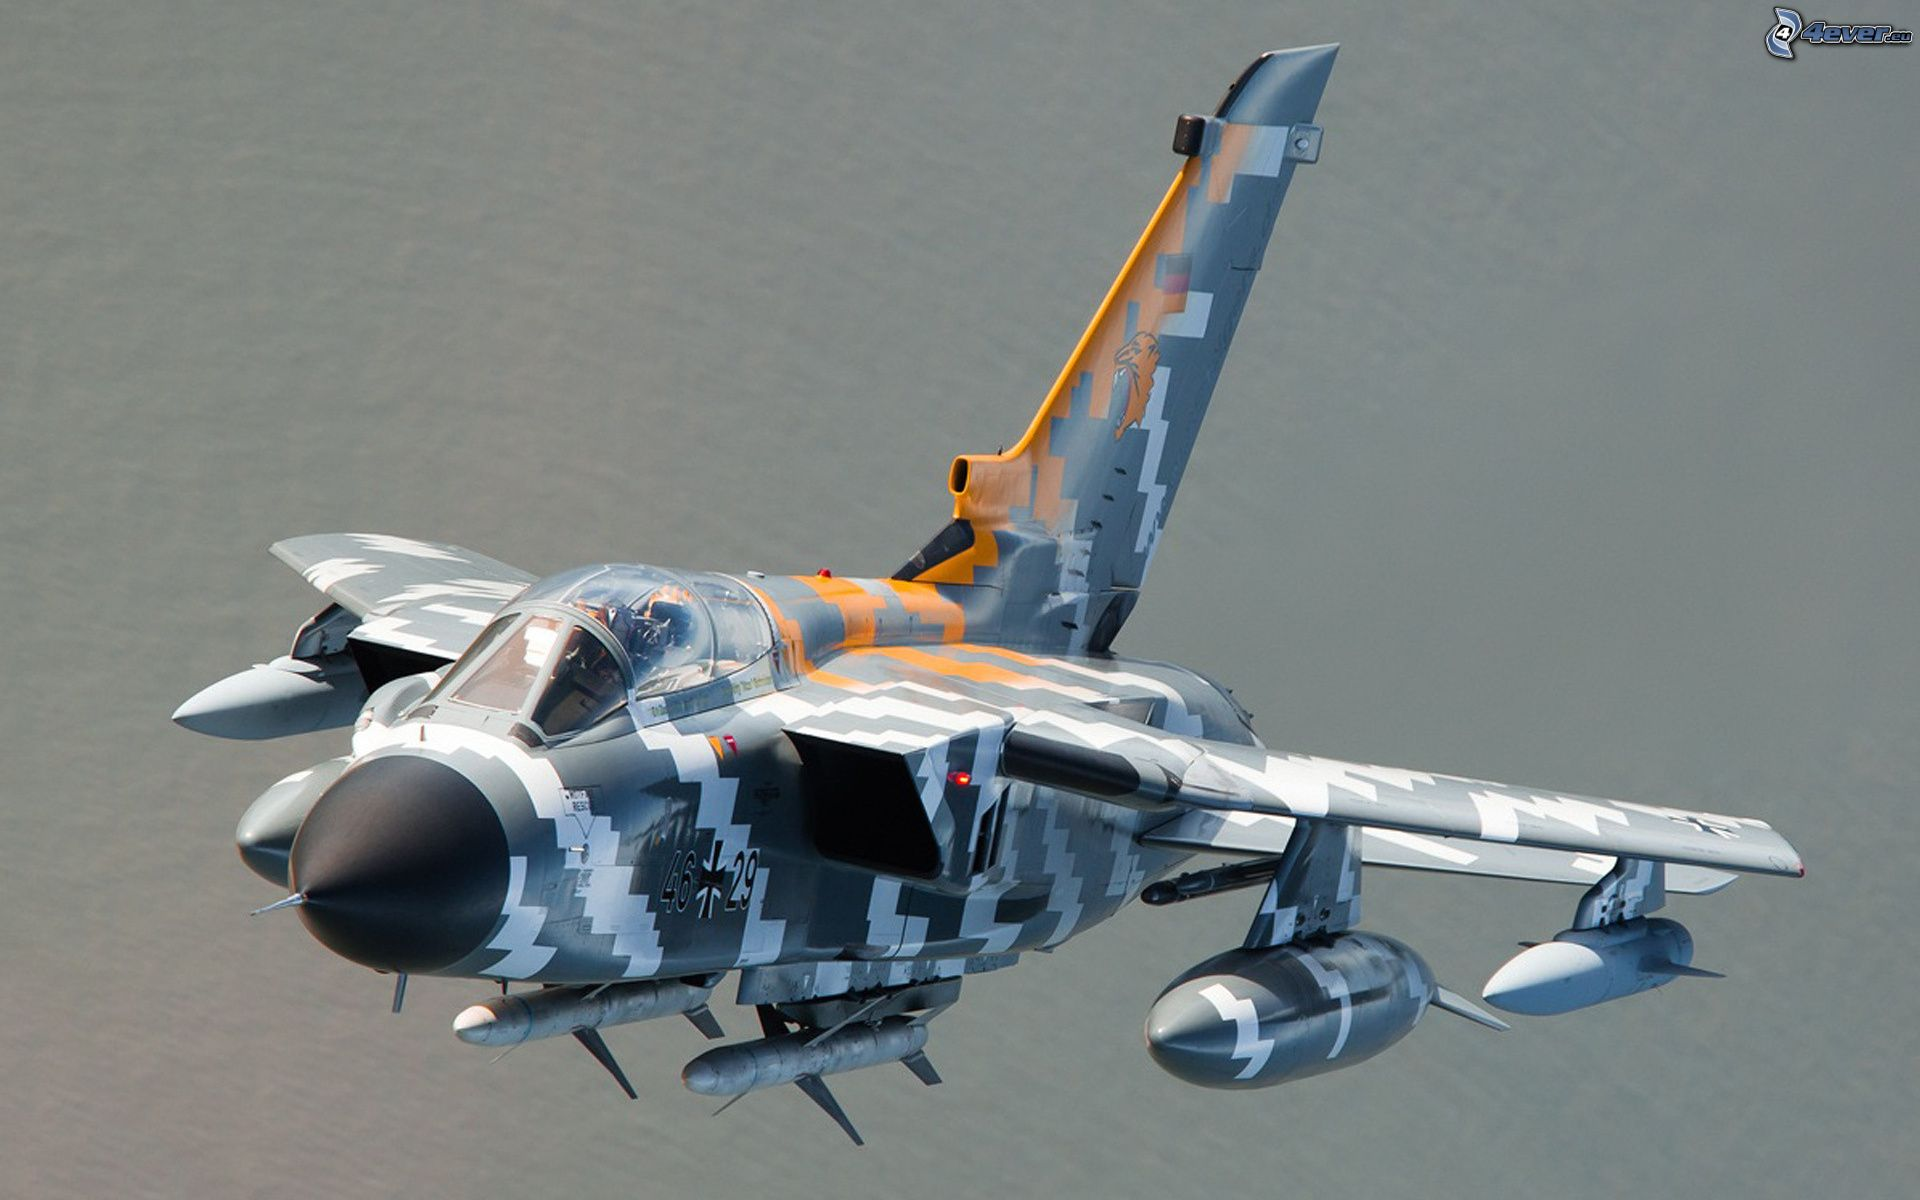Tornado: (169, 41, 1807, 1147)
